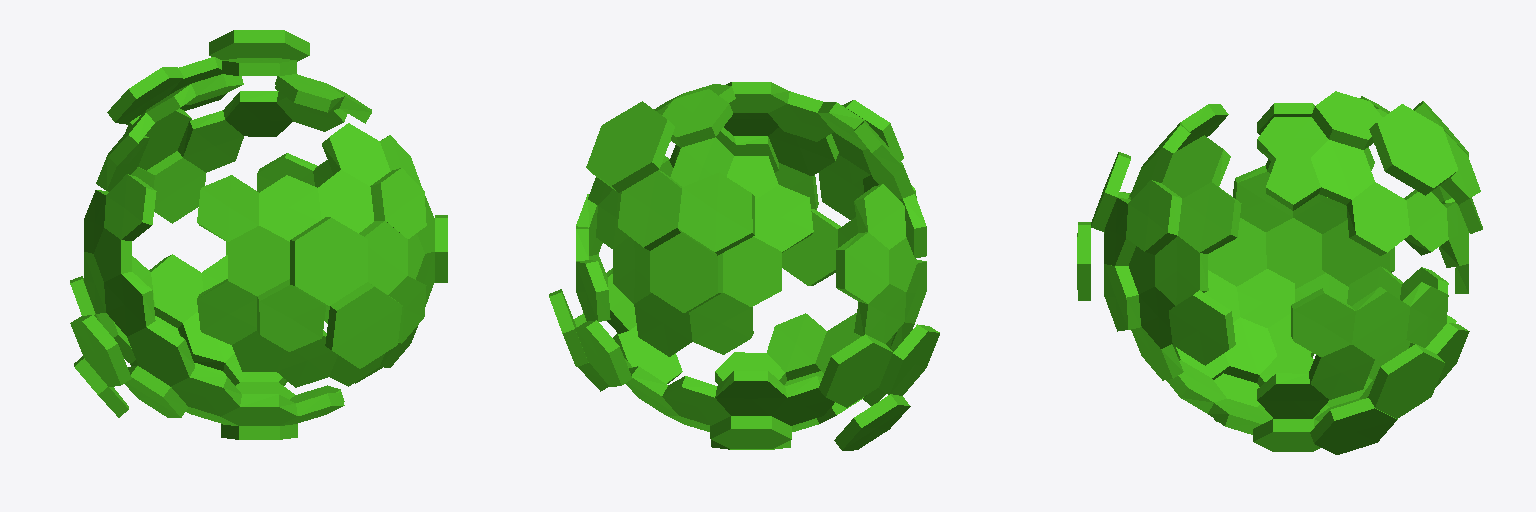
Rendered from Planet5-Grass.obj.
The picture shows the model from 3 angles: view 1: azimuth 30°, elevation 25°; view 2: azimuth 150°, elevation 25°; view 3: azimuth 270°, elevation 25°; orthographic projection.
Parts seen in each view (by area): view 1: Grass_GD_mesh.001; view 2: Grass_GD_mesh.001; view 3: Grass_GD_mesh.001.
Part boxes in pixels (bbox=[...]): Grass_GD_mesh.001: bbox=[70, 30, 447, 439]; Grass_GD_mesh.001: bbox=[549, 82, 939, 450]; Grass_GD_mesh.001: bbox=[1077, 91, 1482, 454].
Bounding box in the file's own units: 4.52 × 4.43 × 4.75.